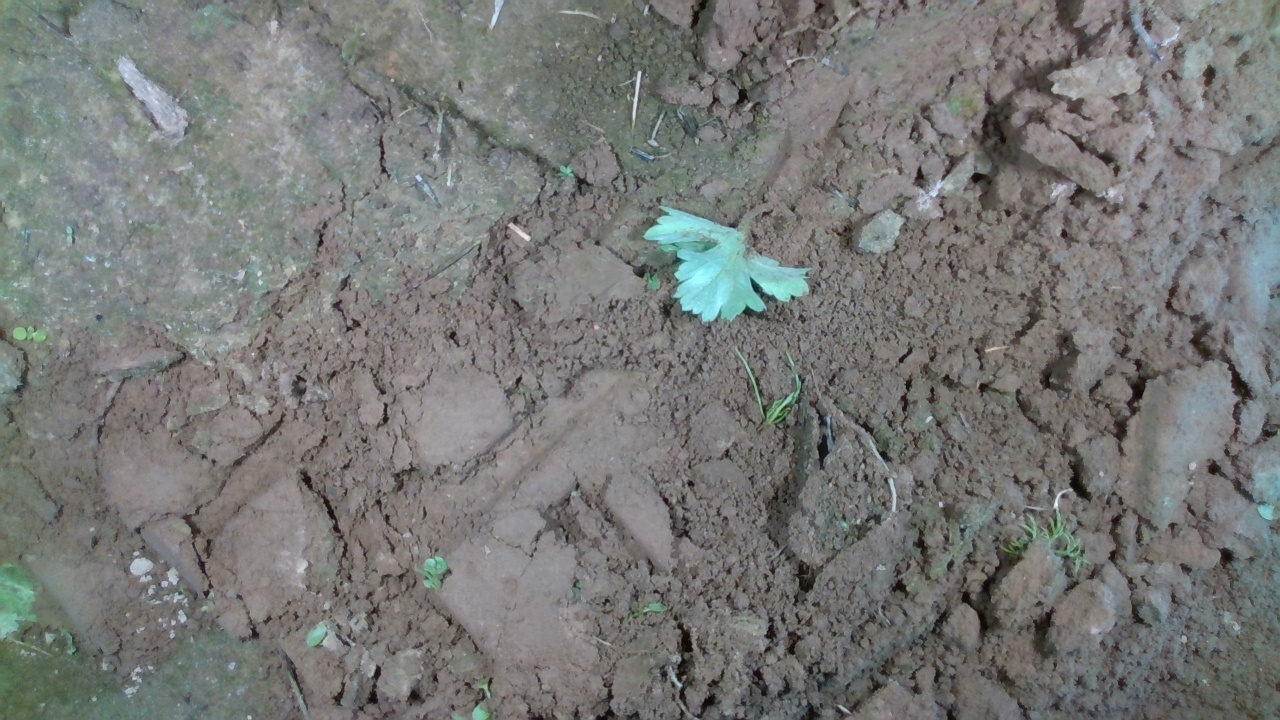weed: (15, 315, 61, 353)
